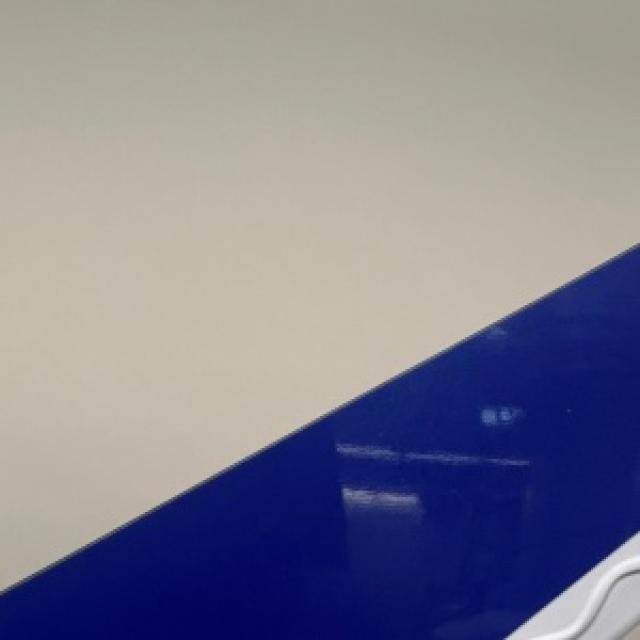healthy: (0, 243, 638, 638)
